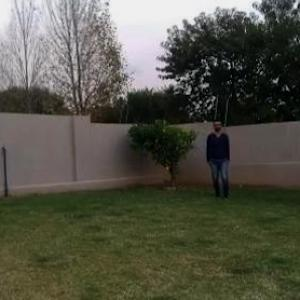follow: (208, 114, 230, 202)
